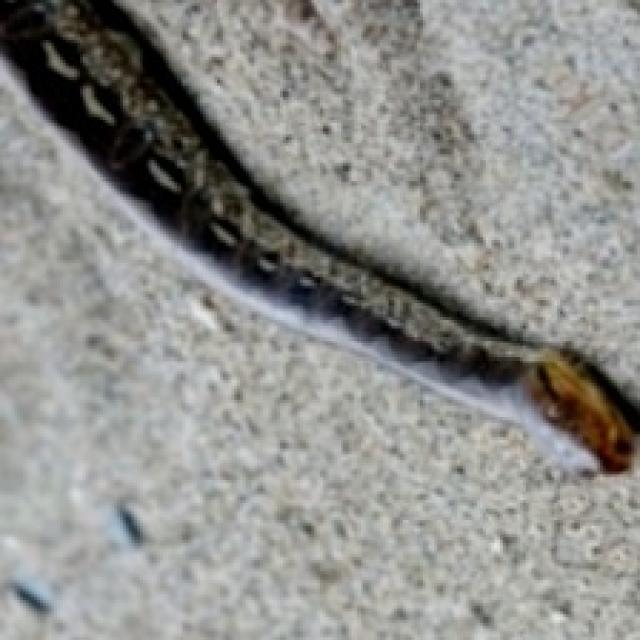reticulated python: (0, 0, 634, 474)
